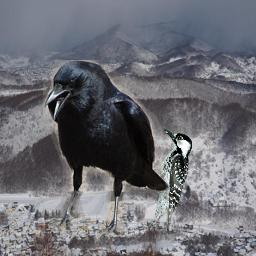Crow: (43, 60, 168, 236)
Woodpecker: (146, 127, 192, 232)
